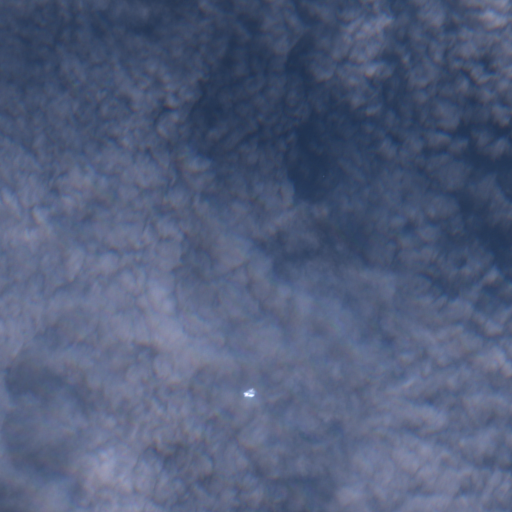Iceberg: (244, 389, 255, 396)
